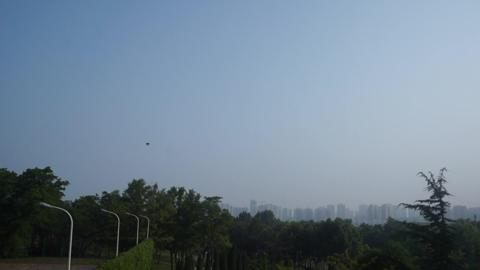UAV: (145, 142, 150, 146)
